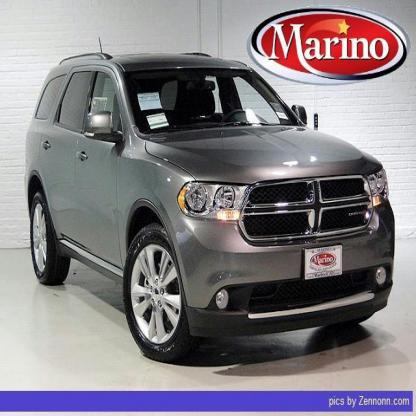Vehicle: (21, 36, 398, 366)
